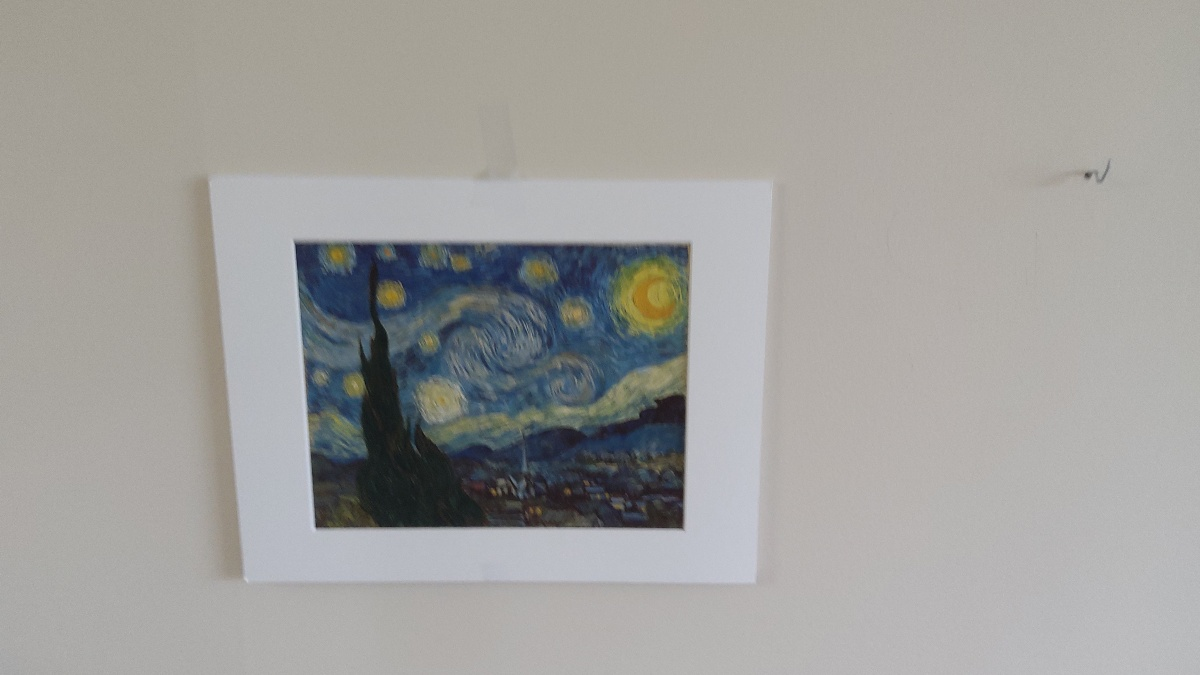painting: (285, 227, 696, 545)
